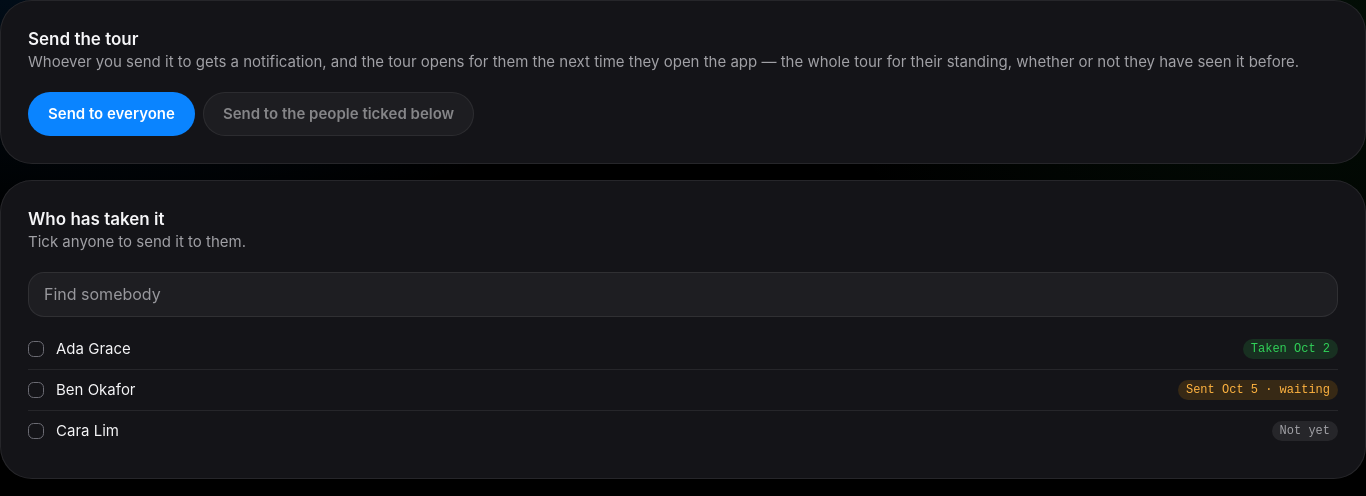
it: Settings › Onboarding › finds somebody by name
The width and height of the screenshot is (1366, 496).
Expected: the text "Ada Grace" is shown, [56, 339, 131, 359]
Type "car" into the field labelled "Find somebody" at (683,294), box [28, 272, 1338, 317]
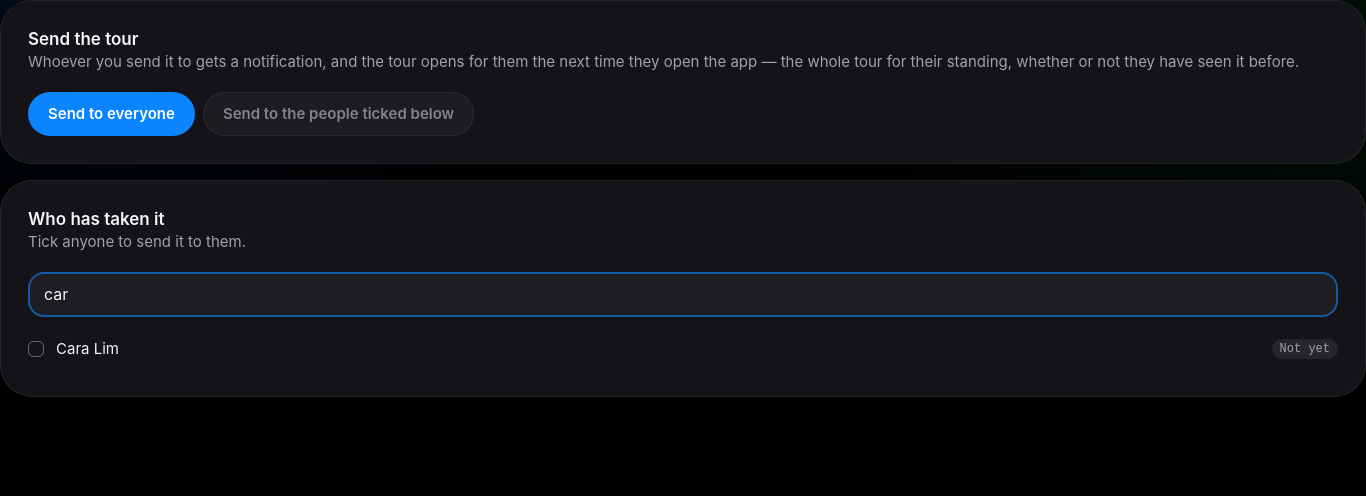
Expected: the text "Cara Lim" is shown, [56, 339, 119, 359]
Expected: the text "Ada Grace" is gone
